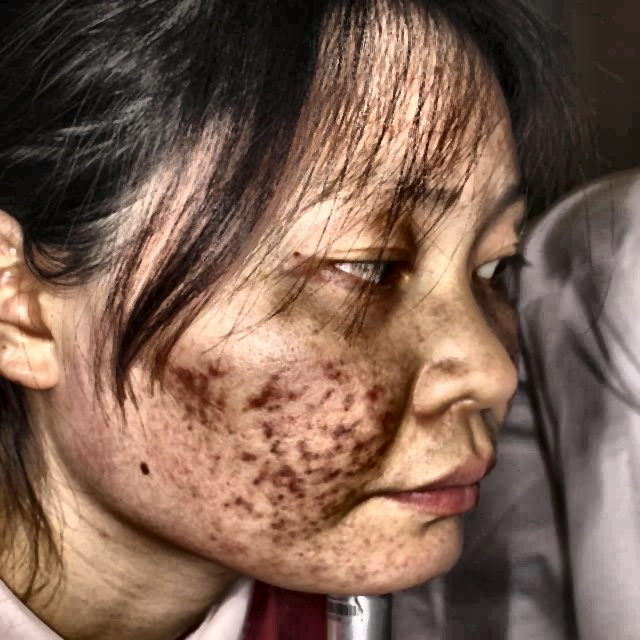pustule: (271, 461, 306, 493), (372, 408, 404, 428), (248, 388, 276, 410), (174, 364, 191, 388), (202, 360, 226, 377), (348, 439, 371, 456), (322, 464, 345, 479)
